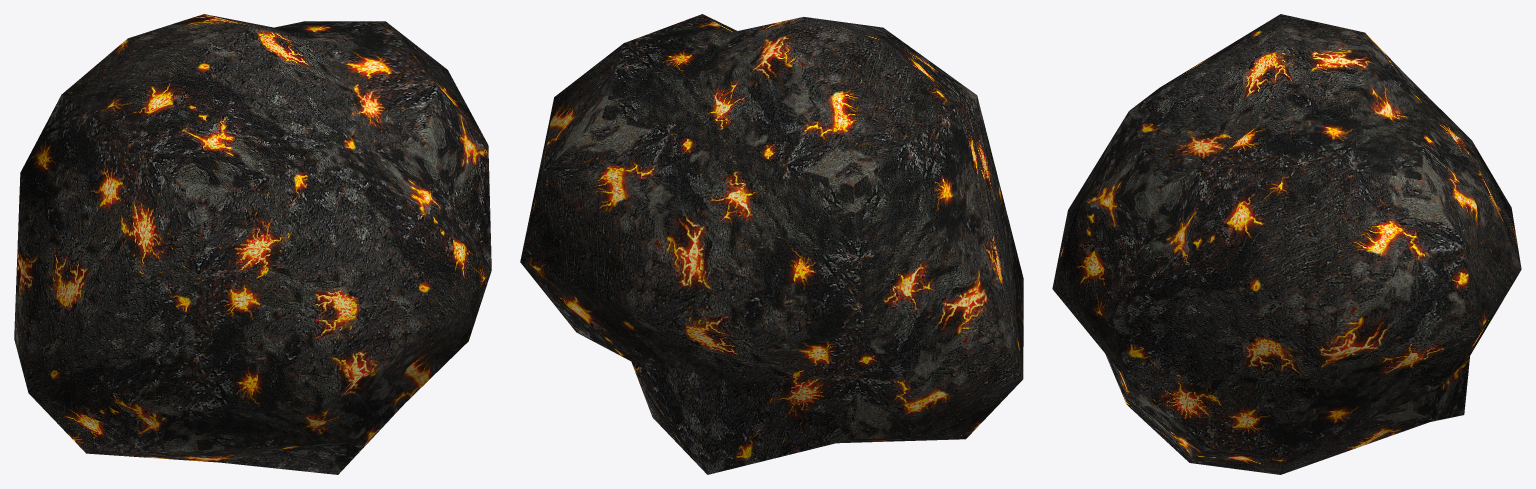
File: asteroid_moltenrock_radial_s01_l1.fbx
3 renders of one model, left to right at view 1: azimuth 30°, elevation 25°; view 2: azimuth 150°, elevation 25°; view 3: azimuth 270°, elevation 25°, orthographic. The views are drawn at different scales.
Parts seen in each view (by area): view 1: mesh_node; view 2: mesh_node; view 3: mesh_node.
Boxes of the visible parts, <box> form: mesh_node: <box>14,14,491,474</box>; mesh_node: <box>520,14,1023,474</box>; mesh_node: <box>1052,14,1521,474</box>.
Size of the model in its own units: 5.85 by 5.4 by 5.63.
Materials: 1 (1 with a texture image).
